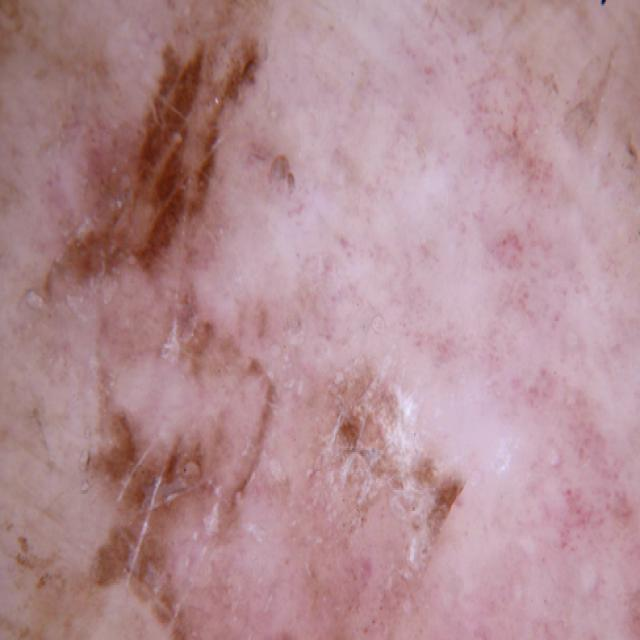Melanoma: (8, 32, 503, 640)
